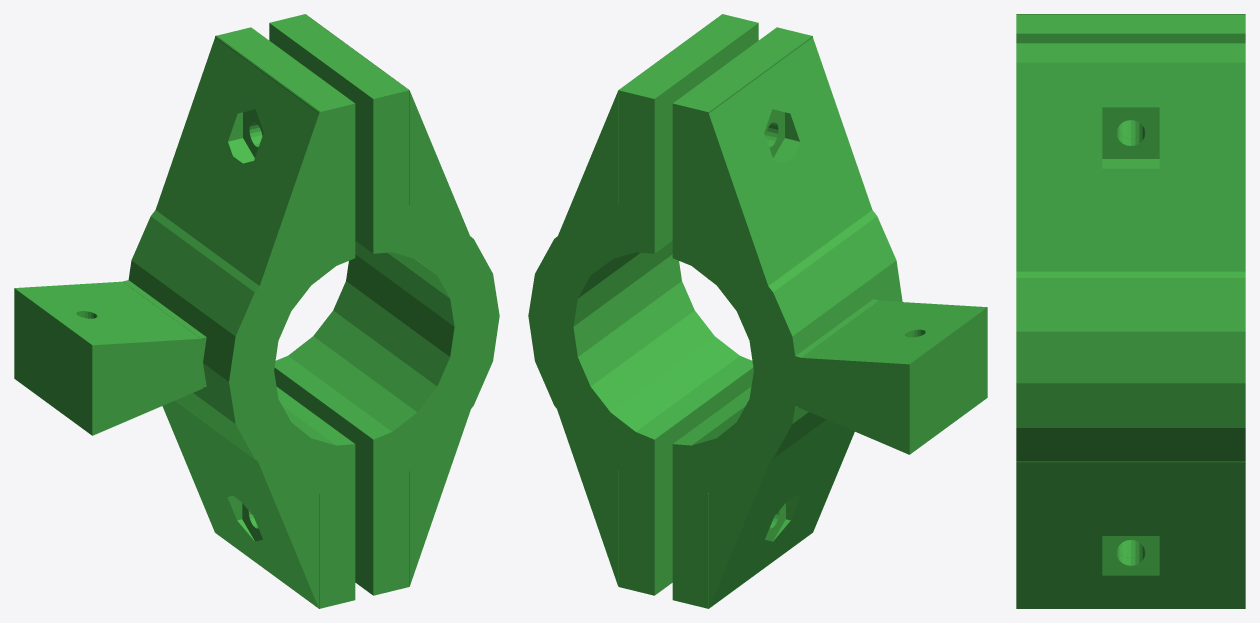
The model's file is tinker.obj.
3 renders of one model, left to right at view 1: azimuth 30°, elevation 25°; view 2: azimuth 150°, elevation 25°; view 3: azimuth 270°, elevation 25°, orthographic. The views are drawn at different scales.
Parts seen in each view (by area): view 1: obj_0; view 2: obj_0; view 3: obj_0.
Boxes of the visible parts, bbox=[...] form: obj_0: bbox=[14, 14, 499, 608]; obj_0: bbox=[528, 14, 987, 608]; obj_0: bbox=[1016, 14, 1245, 608].
Size of the model in its own units: 42.25 by 52.65 by 20.
